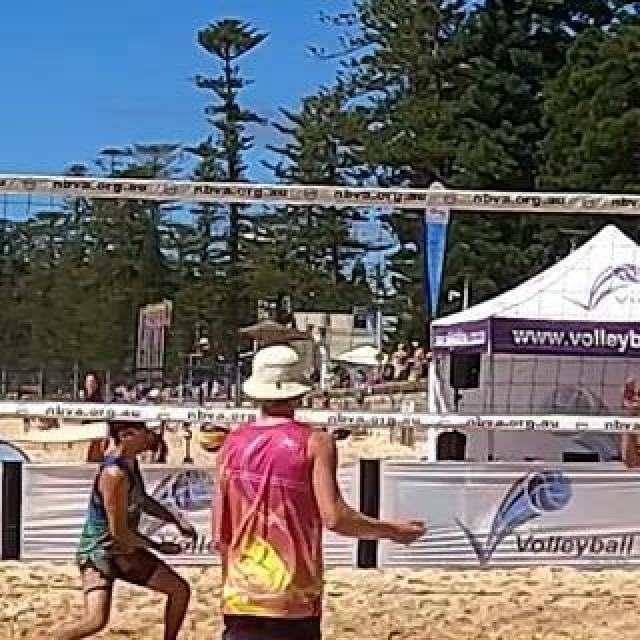volleyball: (198, 417, 234, 455)
